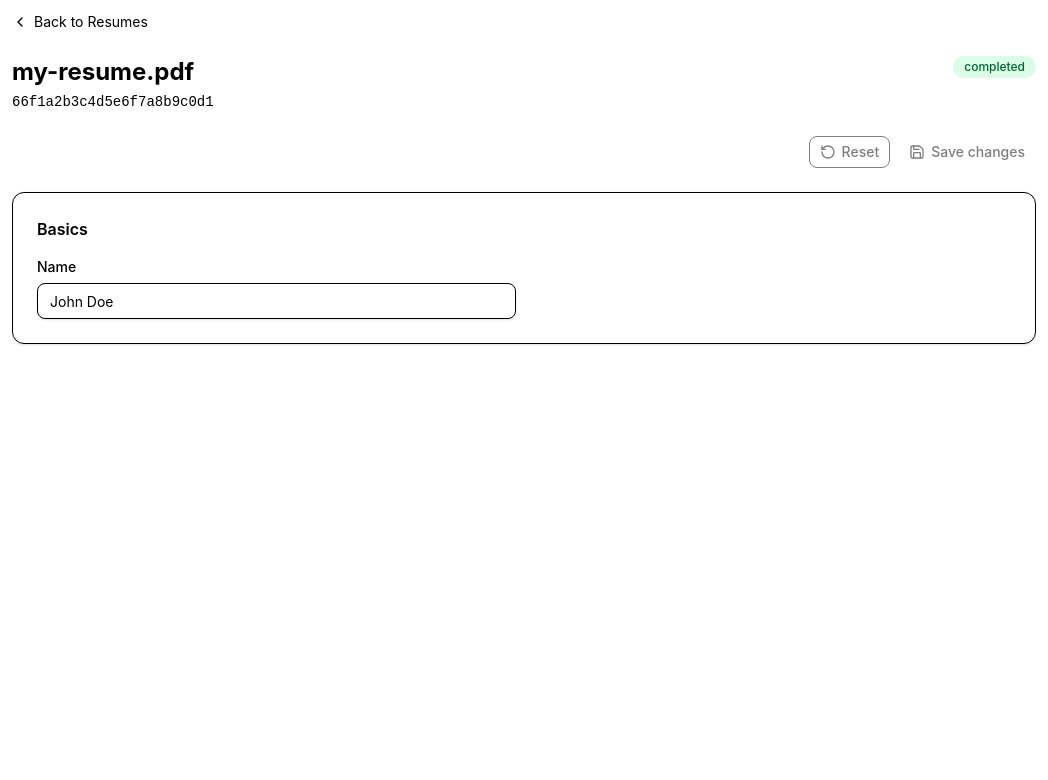
Test: ResumeDetail › shows a friendly error when edited resume save fails
Replace the text in the field labelled "Name" with "Jane Doe": (276, 301) [37, 283, 516, 319]
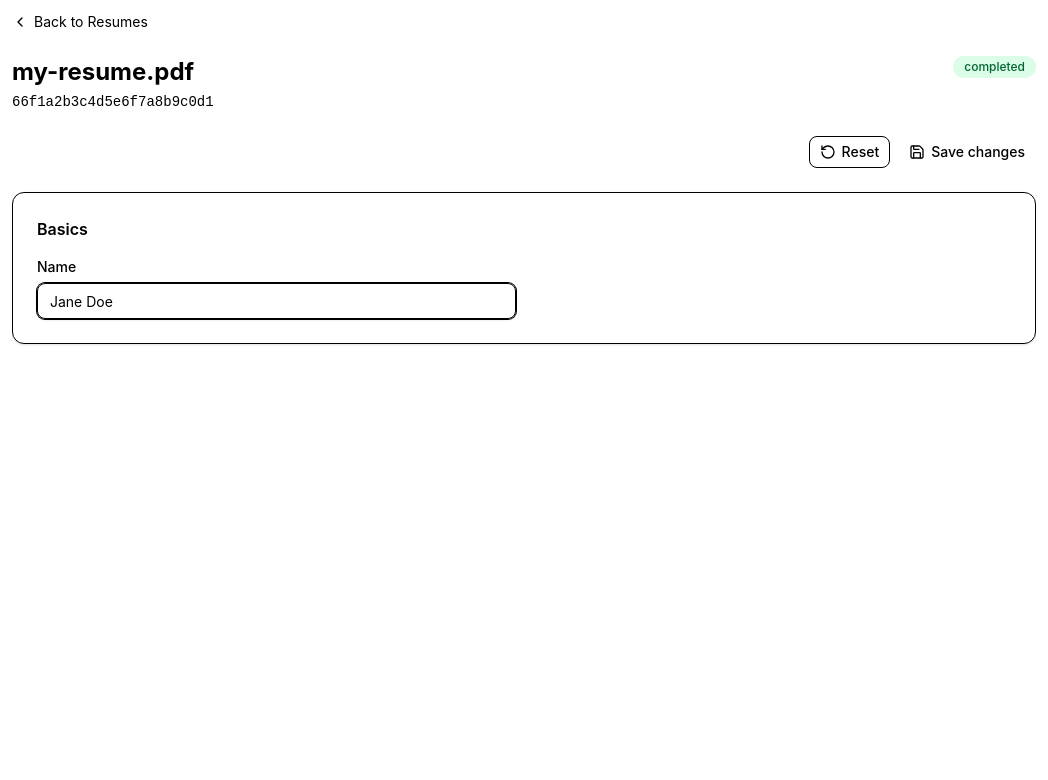
Click the button "Save changes": (967, 152) [898, 136, 1036, 168]
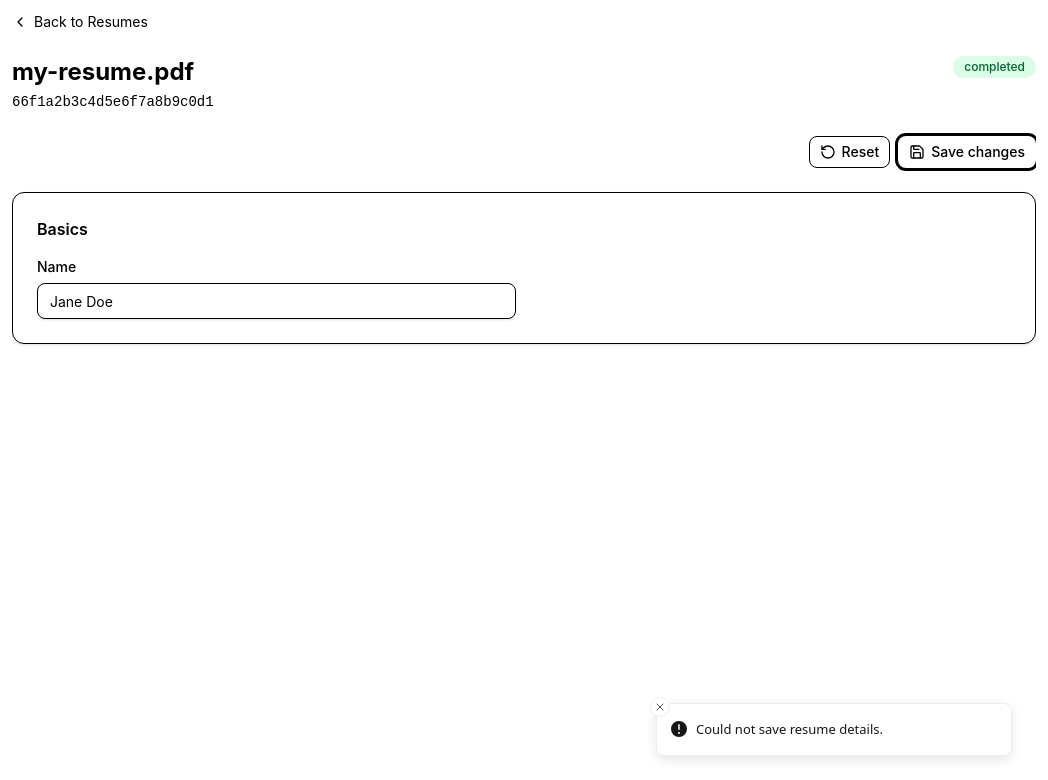
Expected: the text "Could not save resume details." is shown, [696, 720, 883, 739]
